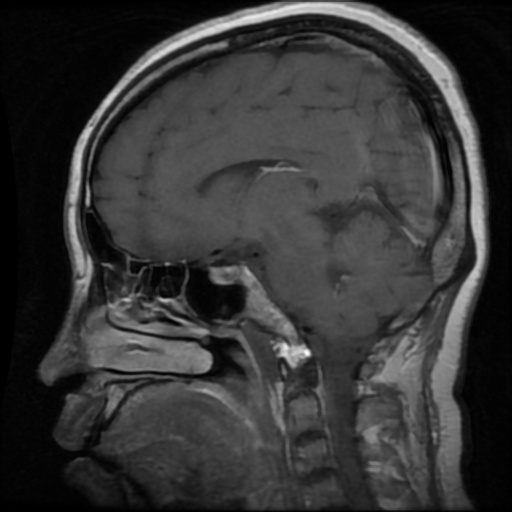pituitary: (209, 264, 241, 284)
